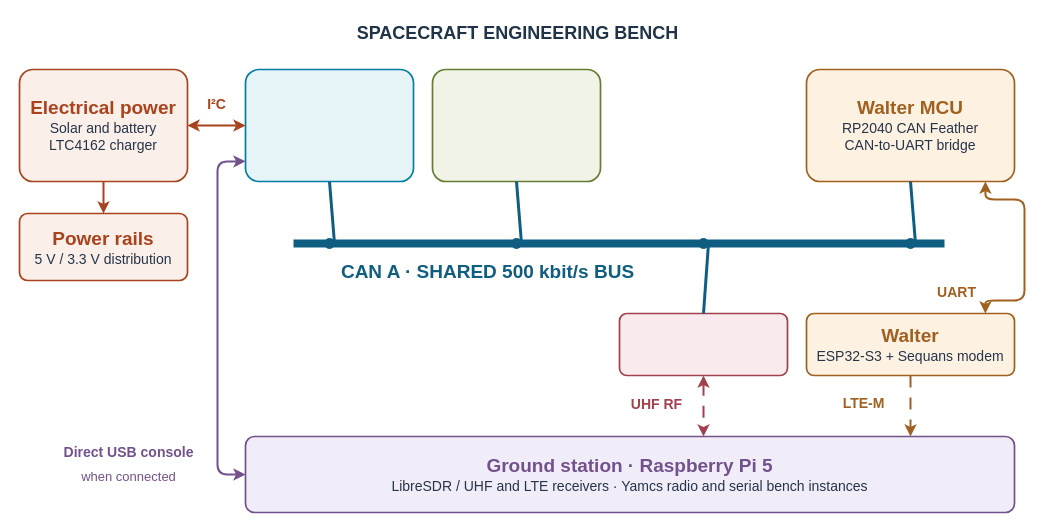
Some shapes in this 1051 by 530 pixel diagram are drawn without their labels. Here are the shapes that lost their labels. From the top down, the box of each, then its label:
(244, 68, 414, 182): IHU RP2040 CAN Feather Modes and telemetry
(431, 68, 601, 182): Camera payload 3 narrowband cameras Raspberry Pi 4
(618, 312, 788, 376): UHF transceiver Pico · DBPSK
